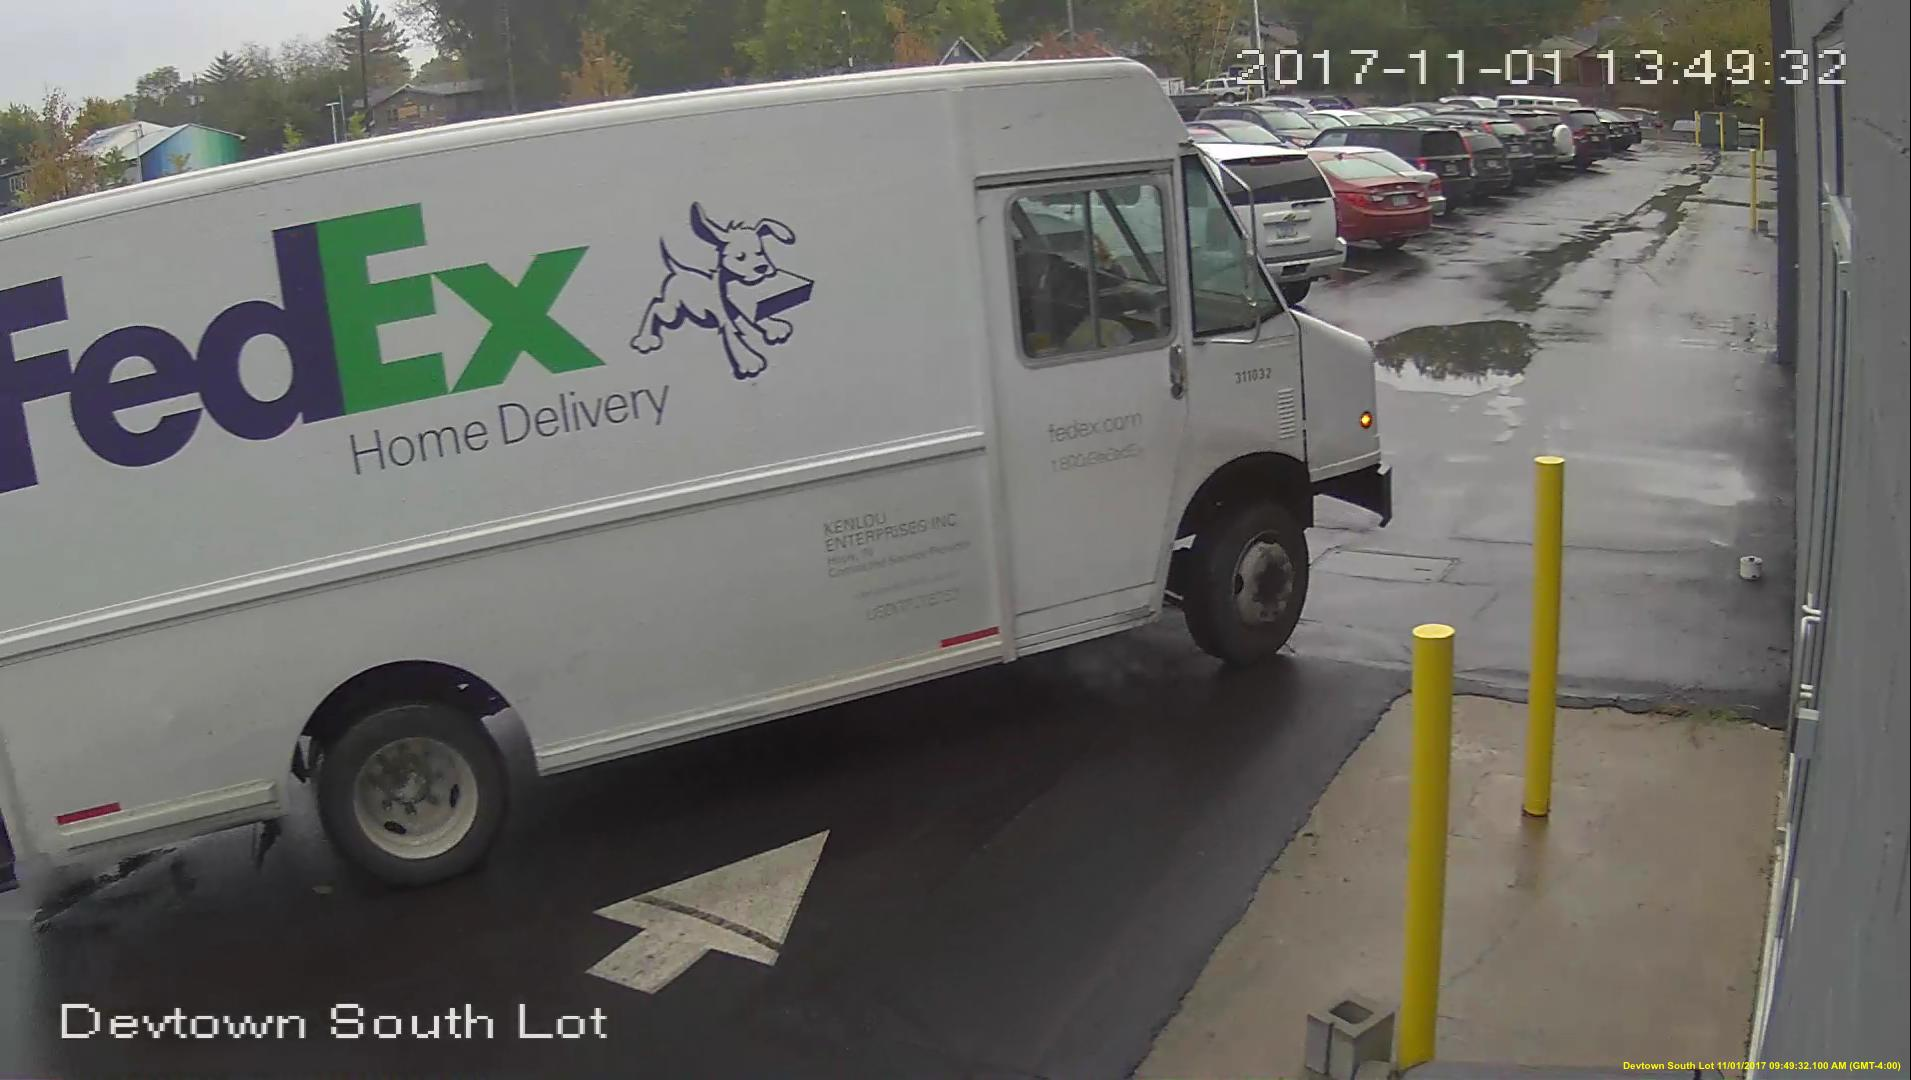fedex_truck: (5, 59, 1402, 898)
